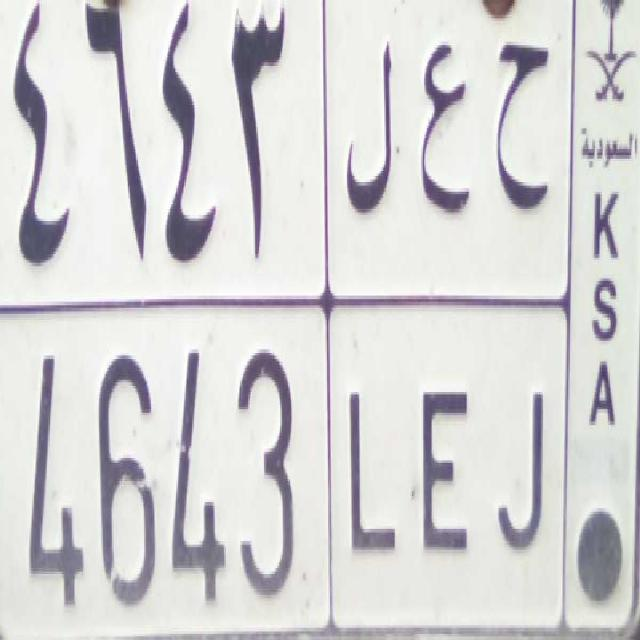license_plate: (1, 297, 564, 640)
